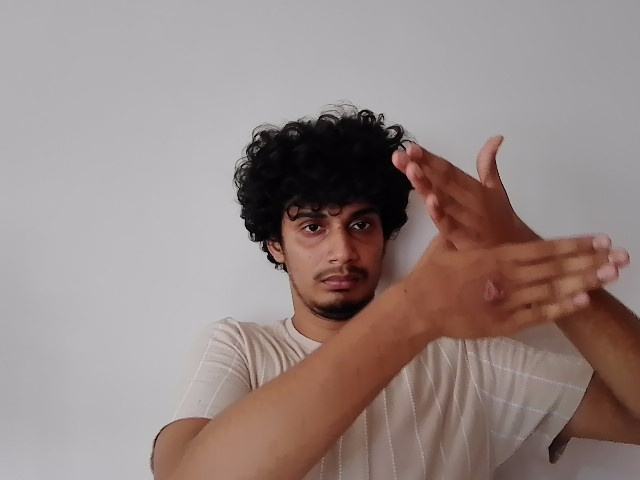busy: (388, 134, 633, 342)
